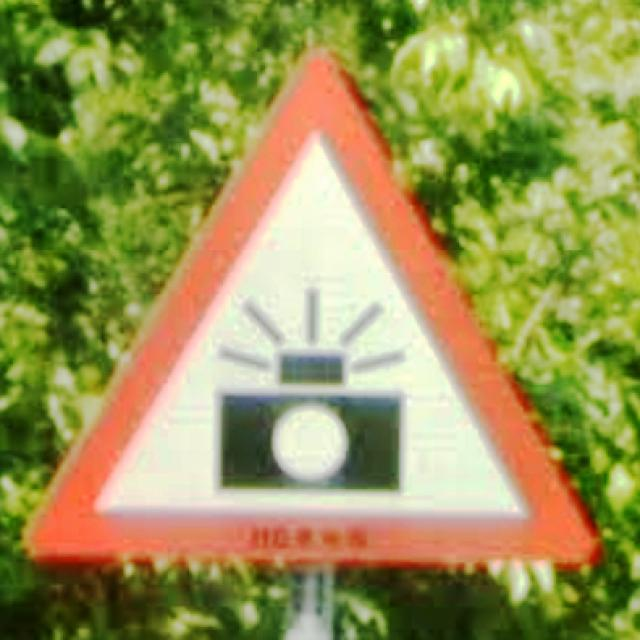speedcamera: (24, 47, 601, 567)
